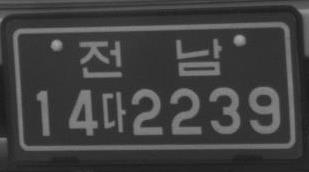1: (31, 88, 56, 137)
2: (130, 87, 165, 136), (169, 86, 203, 136)
3: (208, 85, 241, 136)
4: (66, 88, 99, 137)
9: (247, 84, 282, 136)
다: (101, 90, 126, 134)
전남_D: (78, 36, 222, 80)
